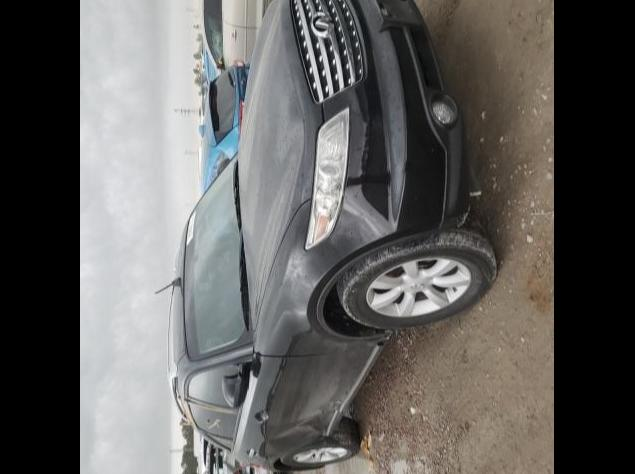Broken part: (334, 402, 352, 416)
Dent: (258, 398, 342, 460), (328, 406, 338, 434)
